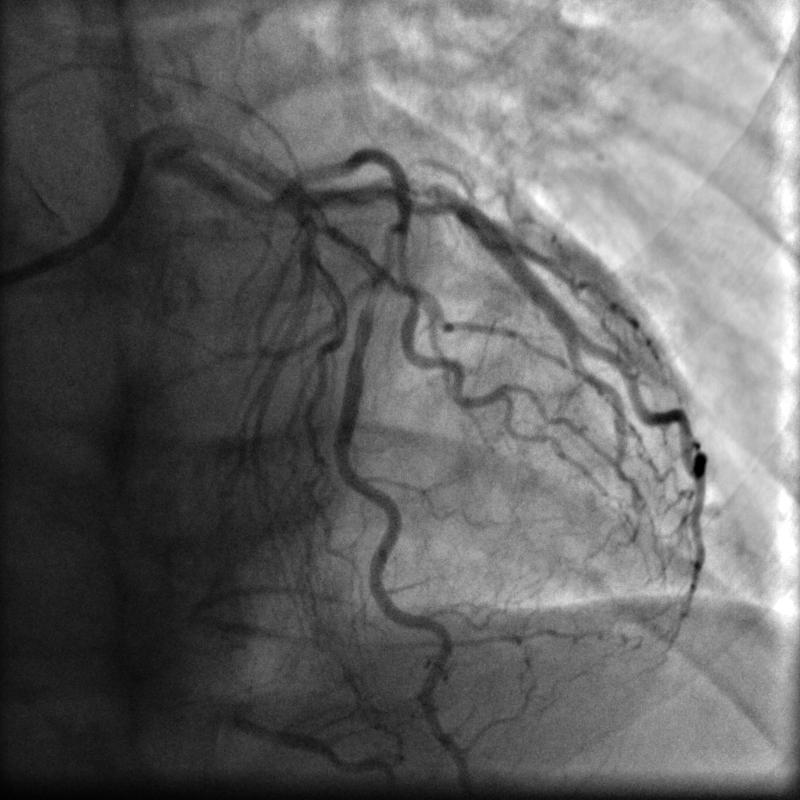Stenosis: (358, 261, 384, 336)
